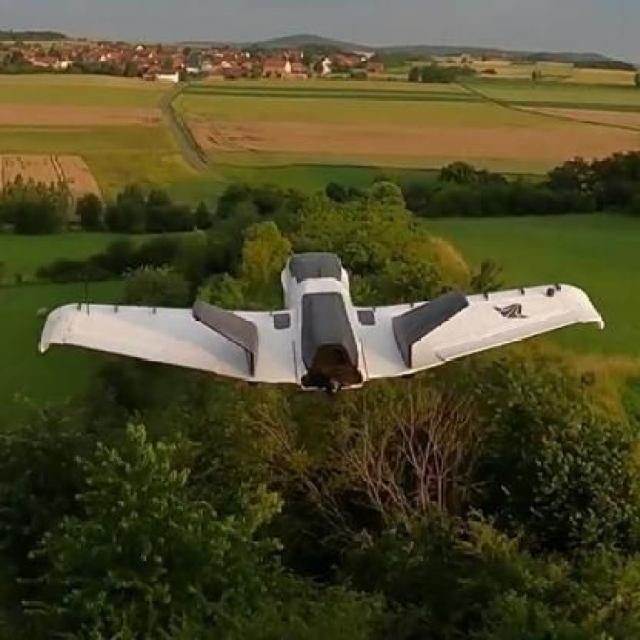iha: (33, 236, 611, 410)
